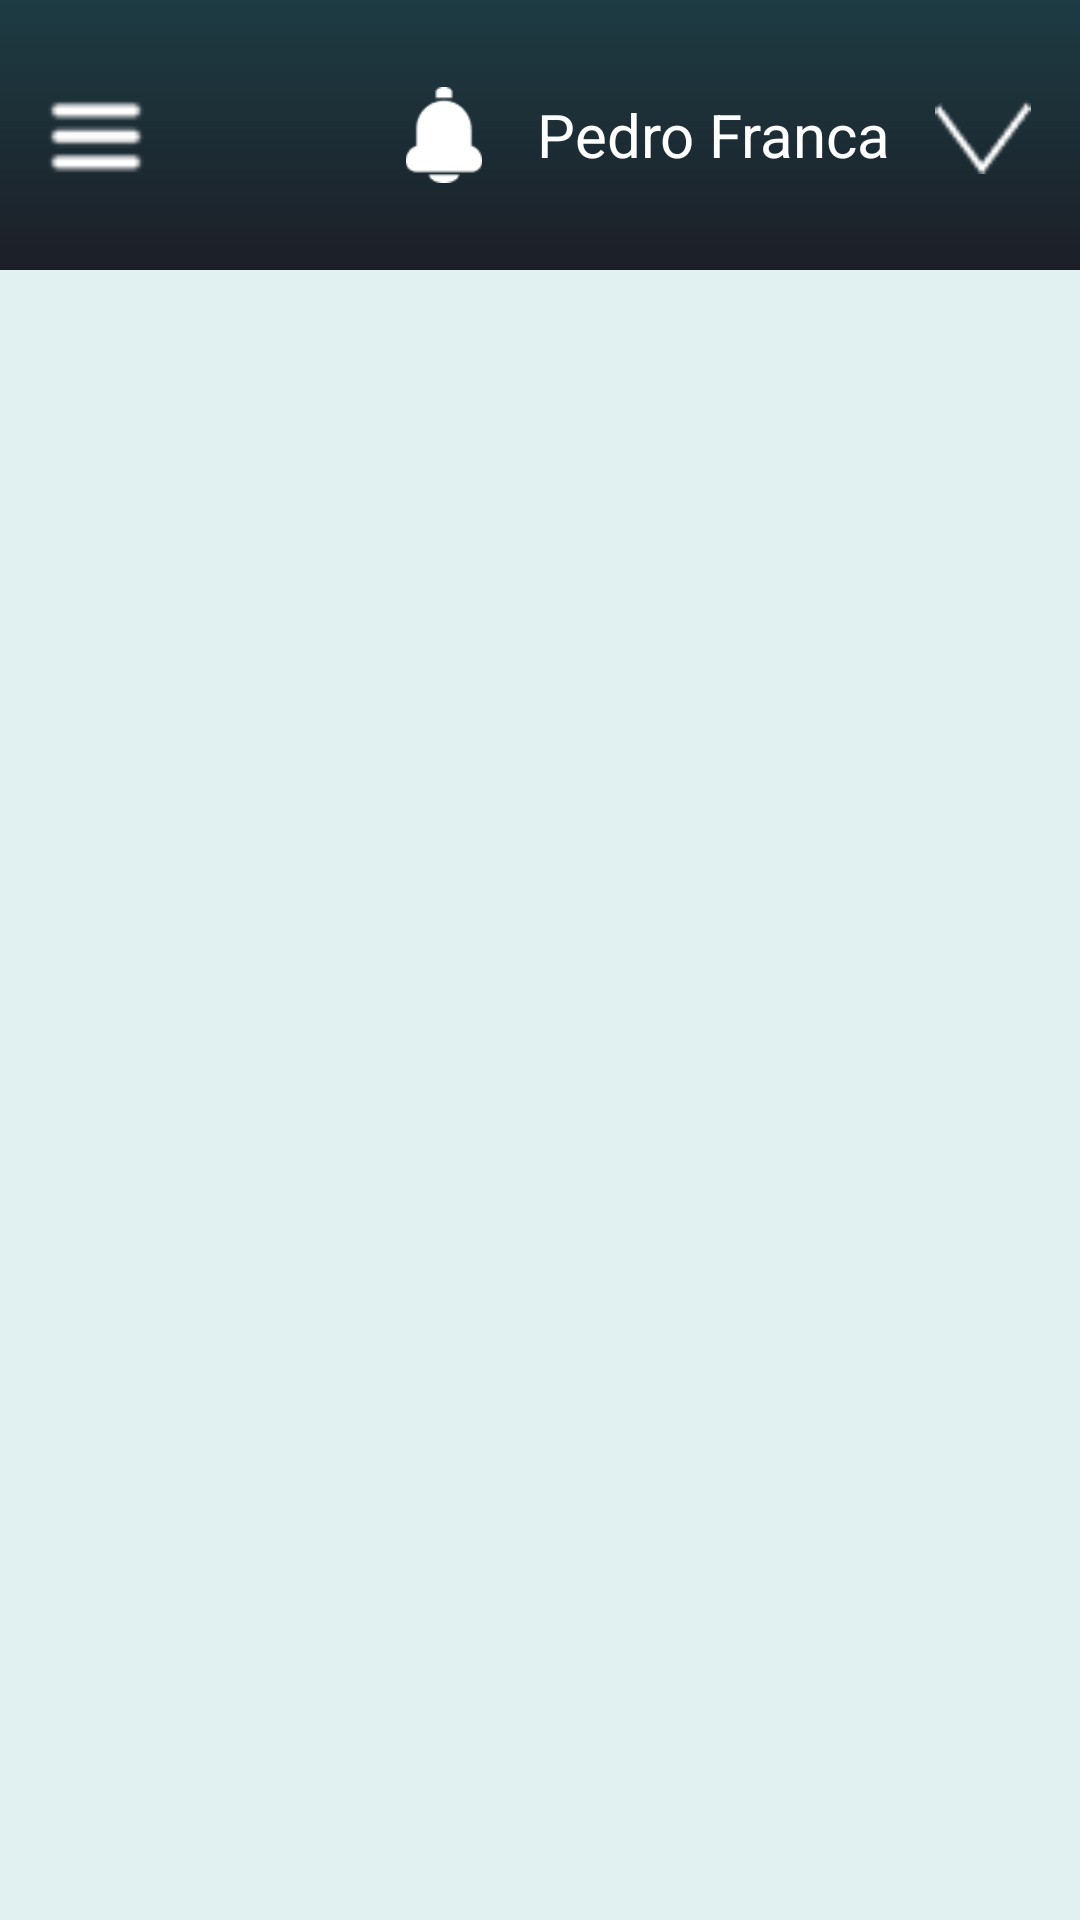

Named icons in this screenshot (1080 x 1920) and their bounding boxes, [x1,y1,x2,y2]:
menu: [50,101,142,172]
notification bell: [406,87,482,183]
